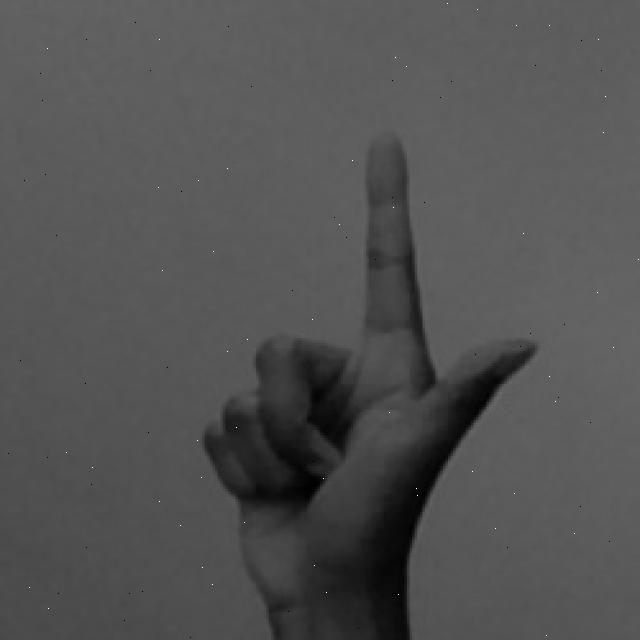L: (195, 123, 542, 640)
